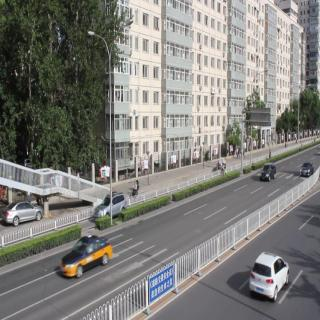Car: (59, 235, 113, 278), (250, 246, 287, 300), (4, 199, 45, 226), (95, 193, 125, 221), (296, 161, 313, 182), (260, 162, 274, 184)
